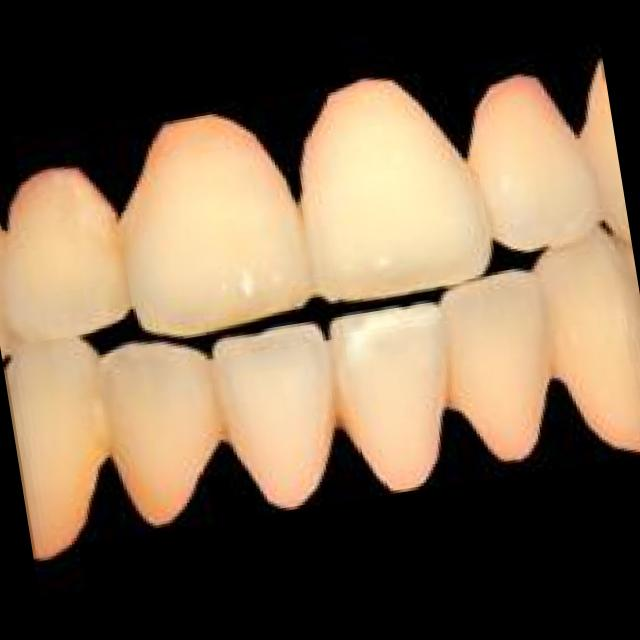1: (102, 101, 314, 343), (281, 59, 484, 300), (458, 59, 611, 259), (210, 317, 349, 518), (1, 336, 129, 554), (102, 327, 238, 532), (436, 270, 572, 462), (326, 303, 458, 497), (0, 154, 129, 341), (537, 233, 640, 462)
karies: (200, 398, 240, 446), (135, 481, 171, 516), (327, 396, 357, 430)
